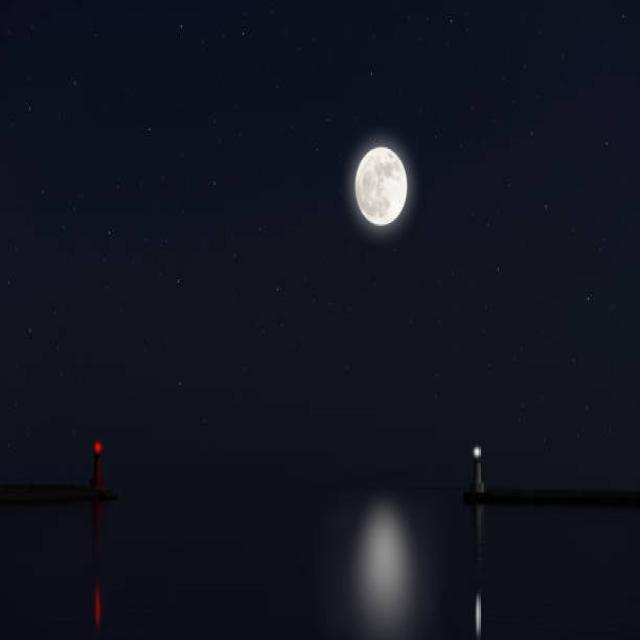moon: (352, 146, 406, 228)
